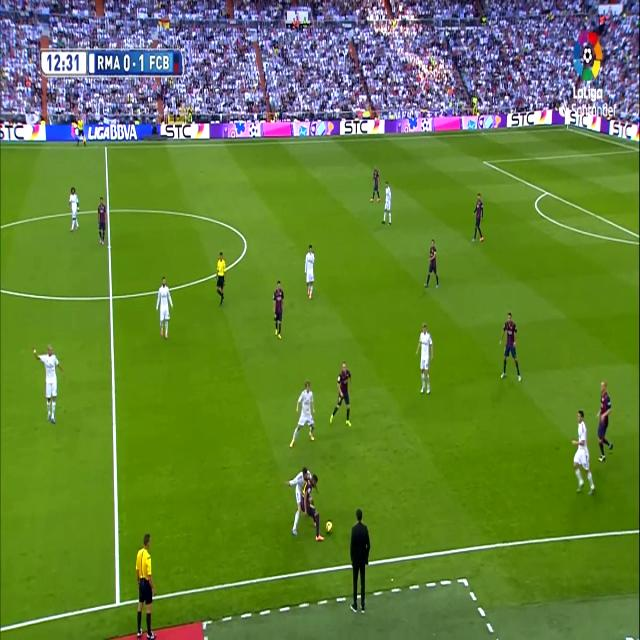halfcircle_bottom: (106, 286, 117, 308)
halfcircle_top: (104, 202, 112, 218)
midline_bottom_intersection: (112, 589, 125, 614)
midline_top_intersection: (103, 141, 109, 152)
top_arc_area_intersection: (543, 184, 551, 199)
